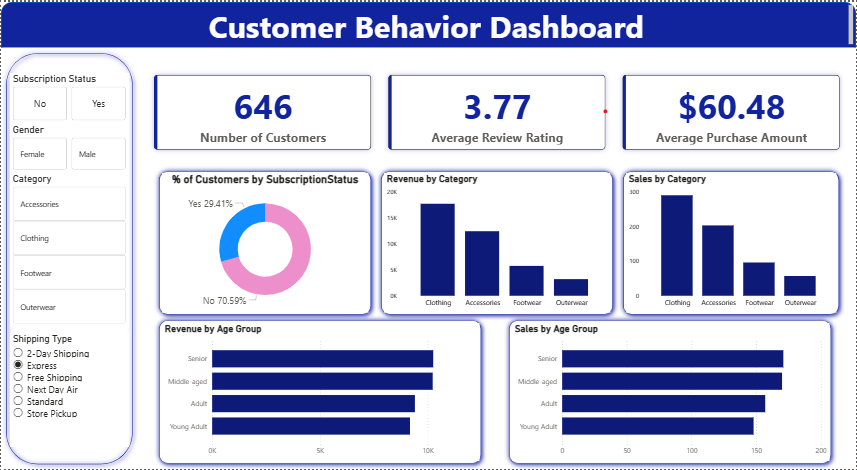

The dashboard page shown, as its layout file describes it:
{"tool":"powerbi","page":{"name":"Page 1","canvas":[1500,820],"ordinal":0},"visuals":[{"type":"cardVisual","fields":{"Data":["public customer.Number of Customers","public customer.Average Review Rating","public customer.Average Purchase Amount"]},"box":[240.1,99.2,1259.9,187.9],"z":0},{"type":"shape","box":[0,0,1500,80],"z":1000},{"type":"textbox","box":[0,0,1500,80],"z":2000},{"type":"shape","box":[268,287.1,389.8,269.7],"z":3000},{"type":"donutChart","title":"% of Customers by SubscriptionStatus","fields":{"Category":["public customer.subscription_status"],"Y":["CountNonNull(public customer.customer_id)"]},"box":[281.9,299.3,361.9,245.4],"z":4000},{"type":"shape","box":[657.8,287.1,424.6,269.7],"z":5000},{"type":"shape","box":[1082.4,287.1,396.8,269.7],"z":6000},{"type":"clusteredColumnChart","title":"Revenue by Category","fields":{"Y":["Sum(public customer.purchase_amount)"],"Category":["public customer.category"]},"box":[671.7,299.3,396.8,245.4],"z":7000},{"type":"clusteredColumnChart","title":"Sales by Category","fields":{"Y":["CountNonNull(public customer.customer_id)"],"Category":["public customer.category"]},"box":[1096.3,299.3,368.9,245.4],"z":8000},{"type":"shape","box":[0,80,240.1,739.6],"z":9000},{"type":"advancedSlicerVisual","fields":{"Values":["public customer.subscription_status"]},"box":[15.7,125.3,208.8,88.7],"z":10000},{"type":"advancedSlicerVisual","fields":{"Values":["public customer.gender"]},"box":[15.7,214,208.8,85.3],"z":11000},{"type":"advancedSlicerVisual","fields":{"Values":["public customer.category"]},"box":[15.7,299.3,208.8,269.7],"z":12000},{"type":"listSlicer","fields":{"Values":["public customer.shipping_type"]},"box":[15.7,581.2,208.8,200.1],"z":13000},{"type":"shape","box":[268,549.9,582.9,269.7],"z":14000},{"type":"clusteredBarChart","title":"evenue by Age Group","fields":{"Category":["public customer.age_group"],"Y":["Sum(public customer.purchase_amount)"]},"box":[281.9,563.8,556.8,241.9],"z":15000},{"type":"shape","box":[882.3,549.9,582.9,269.7],"z":16000},{"type":"clusteredBarChart","title":"Sales by Age Group","fields":{"Category":["public customer.age_group"],"Y":["CountNonNull(public customer.customer_id)"]},"box":[896.2,563.8,556.8,241.9],"z":17000}]}

Visuals, with their boxes in screenshot pixels (x1, y1, x2, y2), scaled from the page's 1500x820 canvas onto the 857x470 screenshot:
cardVisual - public customer.Number of Customers x public customer.Average Review Rating: bbox(137, 57, 856, 165)
shape: bbox(0, 0, 856, 46)
textbox: bbox(0, 0, 856, 46)
shape: bbox(153, 165, 376, 319)
"% of Customers by SubscriptionStatus" donutChart: bbox(161, 172, 368, 312)
shape: bbox(376, 165, 618, 319)
shape: bbox(618, 165, 845, 319)
"Revenue by Category" clusteredColumnChart: bbox(384, 172, 610, 312)
"Sales by Category" clusteredColumnChart: bbox(626, 172, 837, 312)
shape: bbox(0, 46, 137, 469)
advancedSlicerVisual - public customer.subscription_status: bbox(9, 72, 128, 123)
advancedSlicerVisual - public customer.gender: bbox(9, 123, 128, 172)
advancedSlicerVisual - public customer.category: bbox(9, 172, 128, 326)
listSlicer - public customer.shipping_type: bbox(9, 333, 128, 448)
shape: bbox(153, 315, 486, 469)
"evenue by Age Group" clusteredBarChart: bbox(161, 323, 479, 462)
shape: bbox(504, 315, 837, 469)
"Sales by Age Group" clusteredBarChart: bbox(512, 323, 830, 462)
